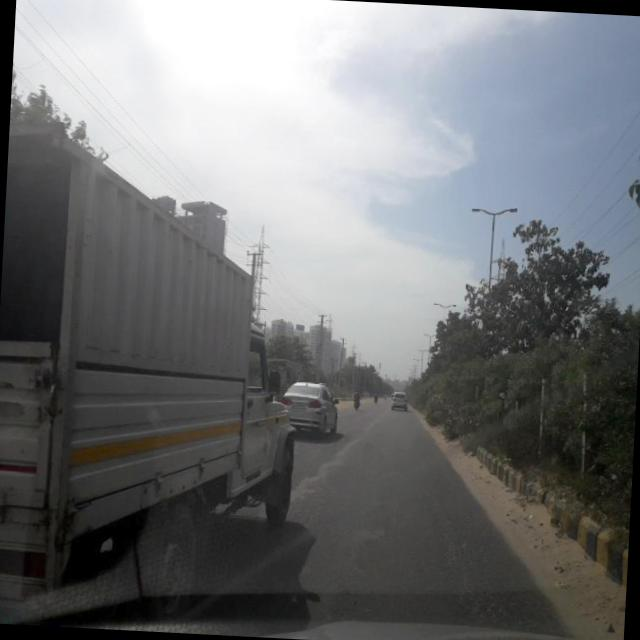crack: (269, 464, 402, 618), (419, 475, 552, 628)
